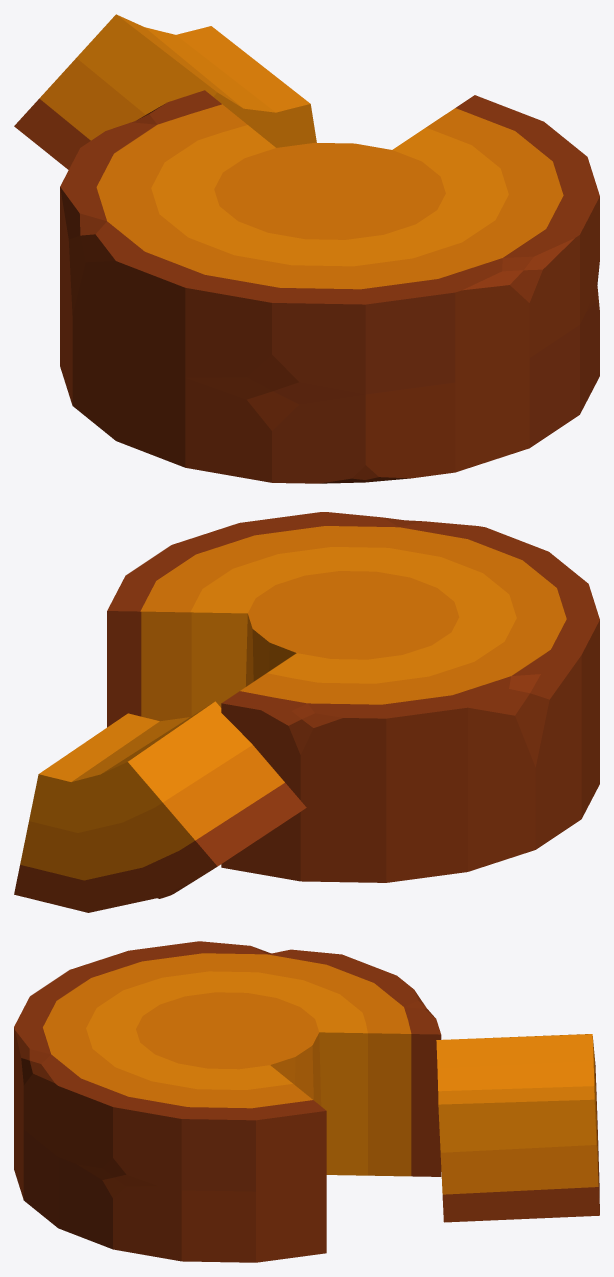
The model's file is Tree log_1.fbx.
The picture shows the model from 3 angles, top to bottom: view 1: azimuth 30°, elevation 25°; view 2: azimuth 150°, elevation 25°; view 3: azimuth 270°, elevation 25°; orthographic projection. The views are drawn at different scales.
Parts seen in each view (by area): view 1: Circle.043, Circle.045; view 2: Circle.043, Circle.045; view 3: Circle.043, Circle.045.
Part boxes in pixels (x1=…): Circle.043: x1=60, y1=90, x2=599, y2=483; Circle.045: x1=14, y1=14, x2=316, y2=169; Circle.043: x1=107, y1=512, x2=599, y2=882; Circle.045: x1=14, y1=701, x2=306, y2=912; Circle.043: x1=14, y1=941, x2=441, y2=1262; Circle.045: x1=436, y1=1034, x2=599, y2=1222.
Bounding box in the file's own units: 23.35 × 8.86 × 32.29.
